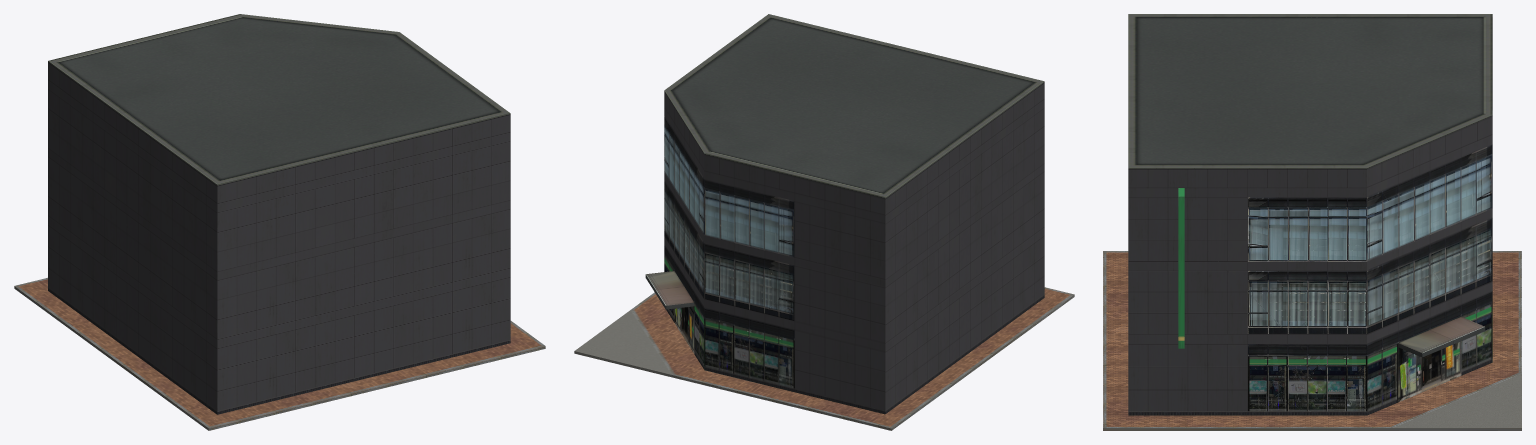
Rendered from CityBank_2.fbx.
3 views of the same model, side by side, from view 1: azimuth 30°, elevation 25°; view 2: azimuth 150°, elevation 25°; view 3: azimuth 270°, elevation 25° (orthographic). The views are drawn at different scales.
Parts seen in each view (by area): view 1: 100_Citybank_2, 000_Site_Citybank_2; view 2: 100_Citybank_2, 000_Site_Citybank_2; view 3: 100_Citybank_2, 000_Site_Citybank_2.
Boxes of the visible parts, bbox=[...] form: 100_Citybank_2: bbox=[48, 14, 510, 414]; 000_Site_Citybank_2: bbox=[14, 277, 545, 430]; 100_Citybank_2: bbox=[645, 14, 1044, 414]; 000_Site_Citybank_2: bbox=[574, 287, 1074, 430]; 100_Citybank_2: bbox=[1128, 14, 1492, 415]; 000_Site_Citybank_2: bbox=[1103, 251, 1521, 430].
Size of the model in its own units: 20 by 13.2 by 20.
